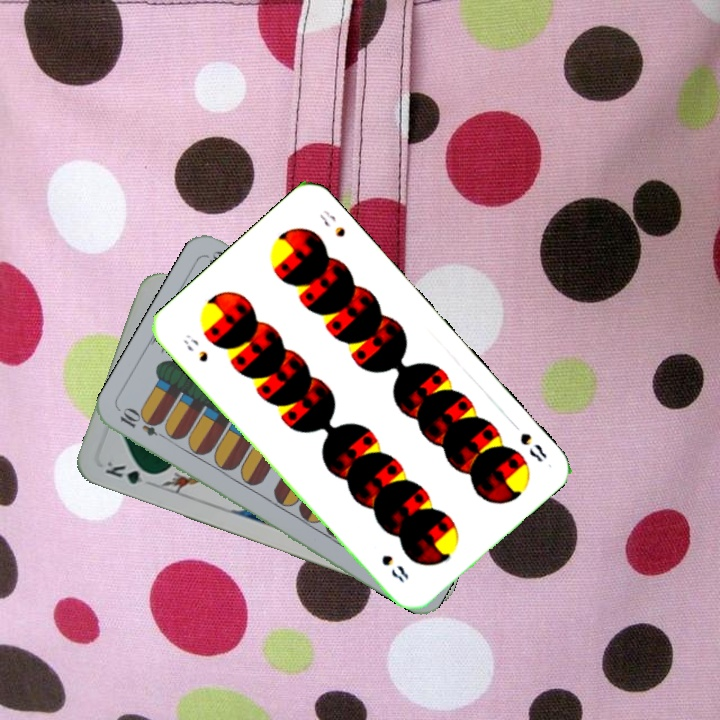E10: (115, 405, 172, 443)
GK: (101, 457, 159, 487)
S8: (515, 429, 550, 465), (179, 330, 211, 365)
